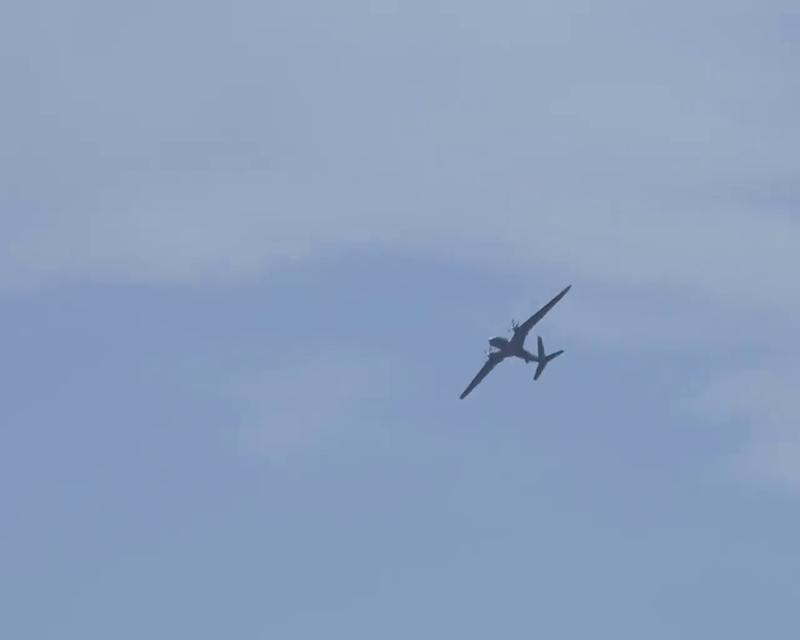UAV: (459, 284, 573, 401)
